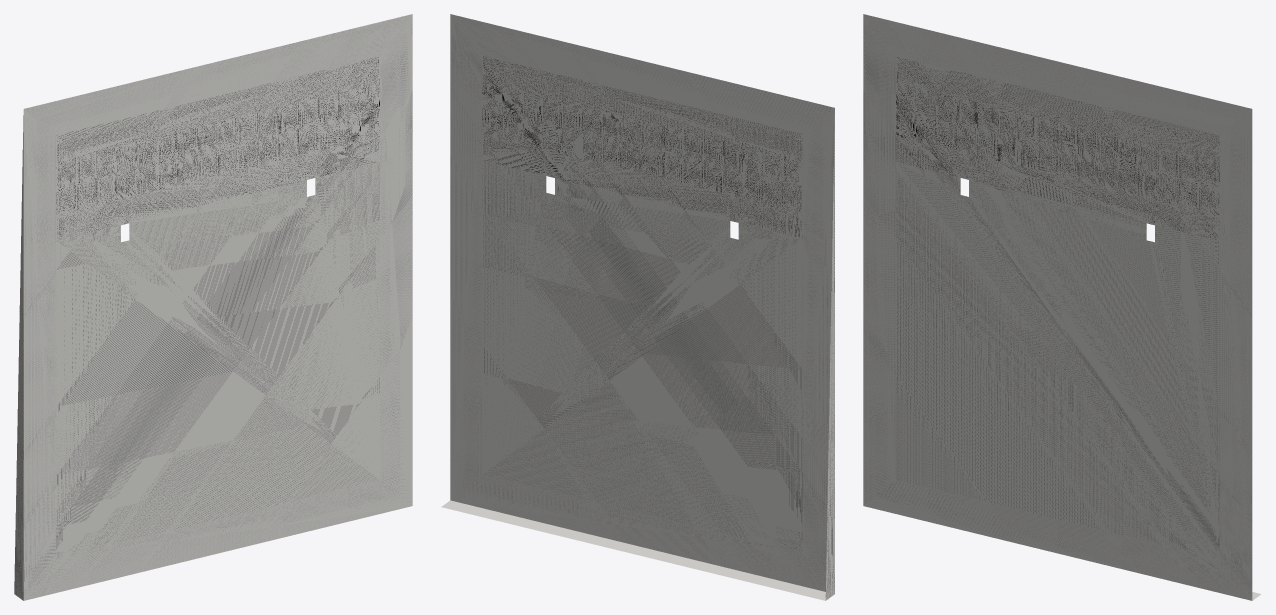
3 views of the same model, side by side, from view 1: azimuth 30°, elevation 25°; view 2: azimuth 150°, elevation 25°; view 3: azimuth 330°, elevation 25° (orthographic).
Bounding box in the file's own units: 1.04 × 1.26 × 0.0435.
